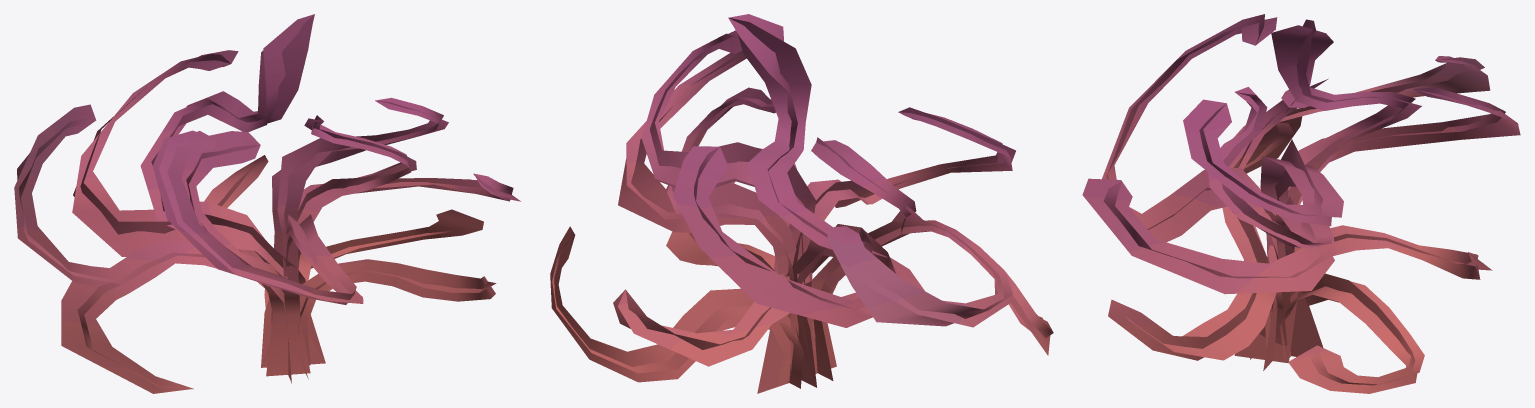
File: model_coral_03.fbx
3 views of the same model, side by side, from view 1: azimuth 30°, elevation 25°; view 2: azimuth 150°, elevation 25°; view 3: azimuth 270°, elevation 25° (orthographic). The views are drawn at different scales.
Parts seen in each view (by area): view 1: coral_03_geo; view 2: coral_03_geo; view 3: coral_03_geo.
Boxes of the visible parts, x1,y1,x2,y2 form: coral_03_geo: (14, 14, 520, 393); coral_03_geo: (550, 14, 1053, 393); coral_03_geo: (1082, 14, 1520, 393).
Size of the model in its own units: 16.59 by 12.05 by 13.73.
